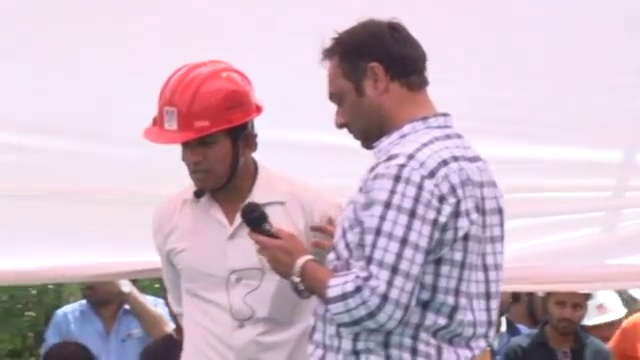helmet: (138, 63, 267, 149), (579, 291, 628, 331)
helmet_off: (320, 22, 438, 124), (541, 292, 592, 335), (77, 281, 127, 313)
helmet_on: (142, 63, 267, 212)
person: (247, 24, 516, 359), (142, 61, 348, 358), (41, 277, 175, 356), (503, 292, 612, 359)
